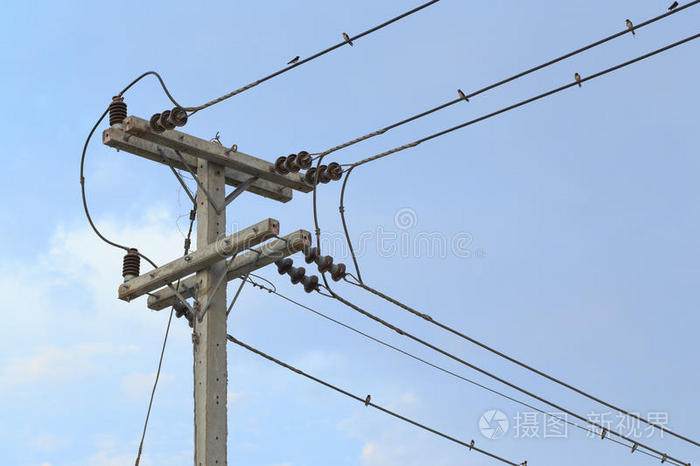insulator: (302, 248, 347, 280), (278, 260, 319, 295), (149, 107, 188, 133), (305, 162, 346, 185), (274, 151, 313, 175)
